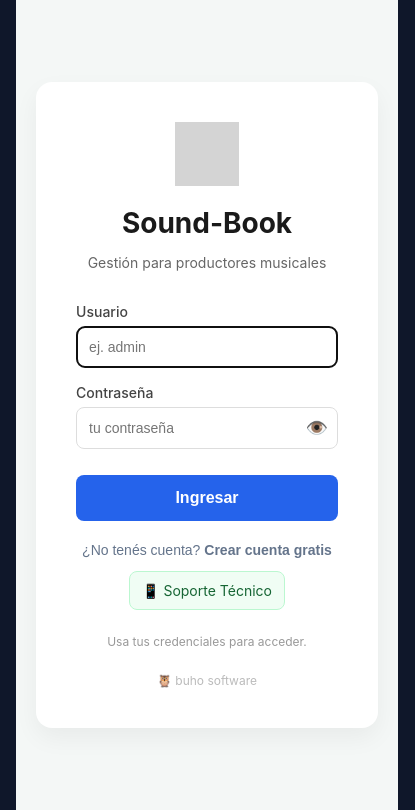
Scenario: Login › shows error for incorrect password
Type "admin" into the field with placeholder "ej. admin".
click(207, 347); type("admin")  # box [76,326,338,368]
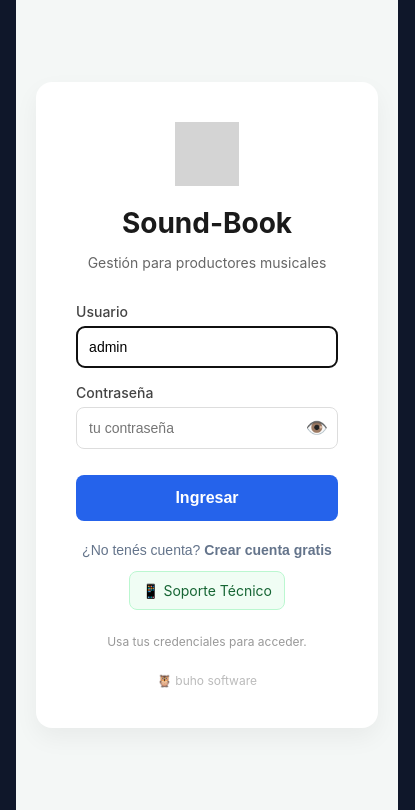
Type "wrongpass" into the password field with placeholder "tu contraseña".
click(207, 428); type("wrongpass")  # box [76,407,338,449]
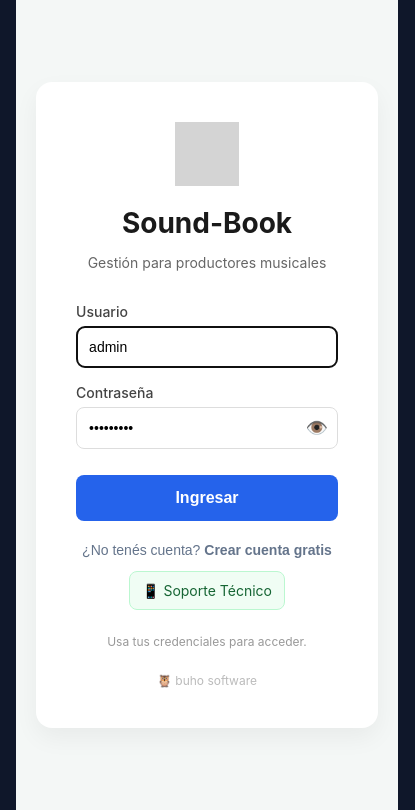
Click the button "Ingresar".
click(207, 498)  # box [76,475,338,521]
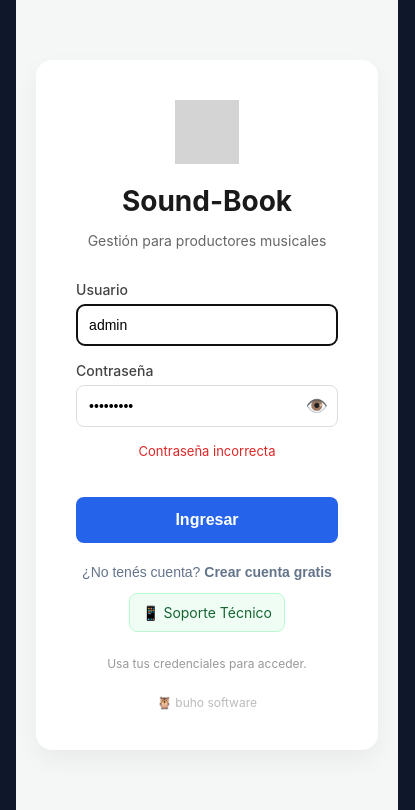
Expected: the text "Contraseña incorrecta" is shown, [138,443,276,459]
